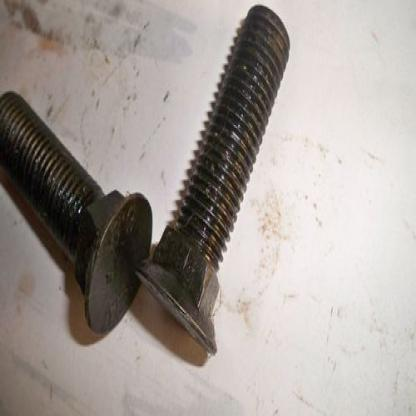FOD: (133, 1, 293, 361), (0, 94, 154, 337)
